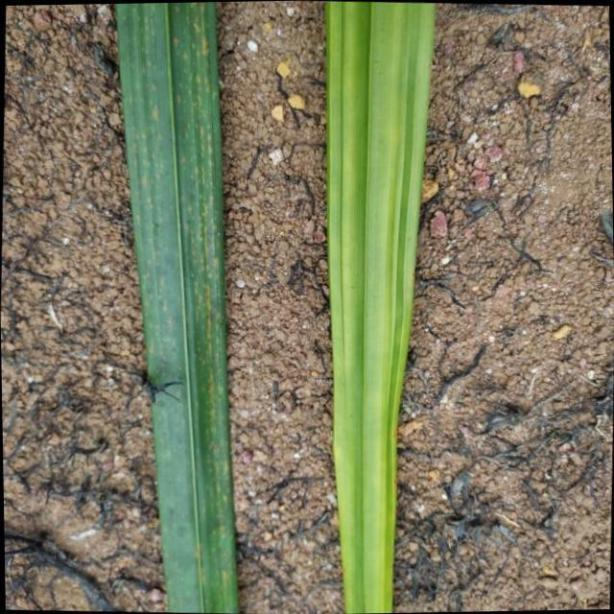nitrogen: (318, 0, 437, 614)
